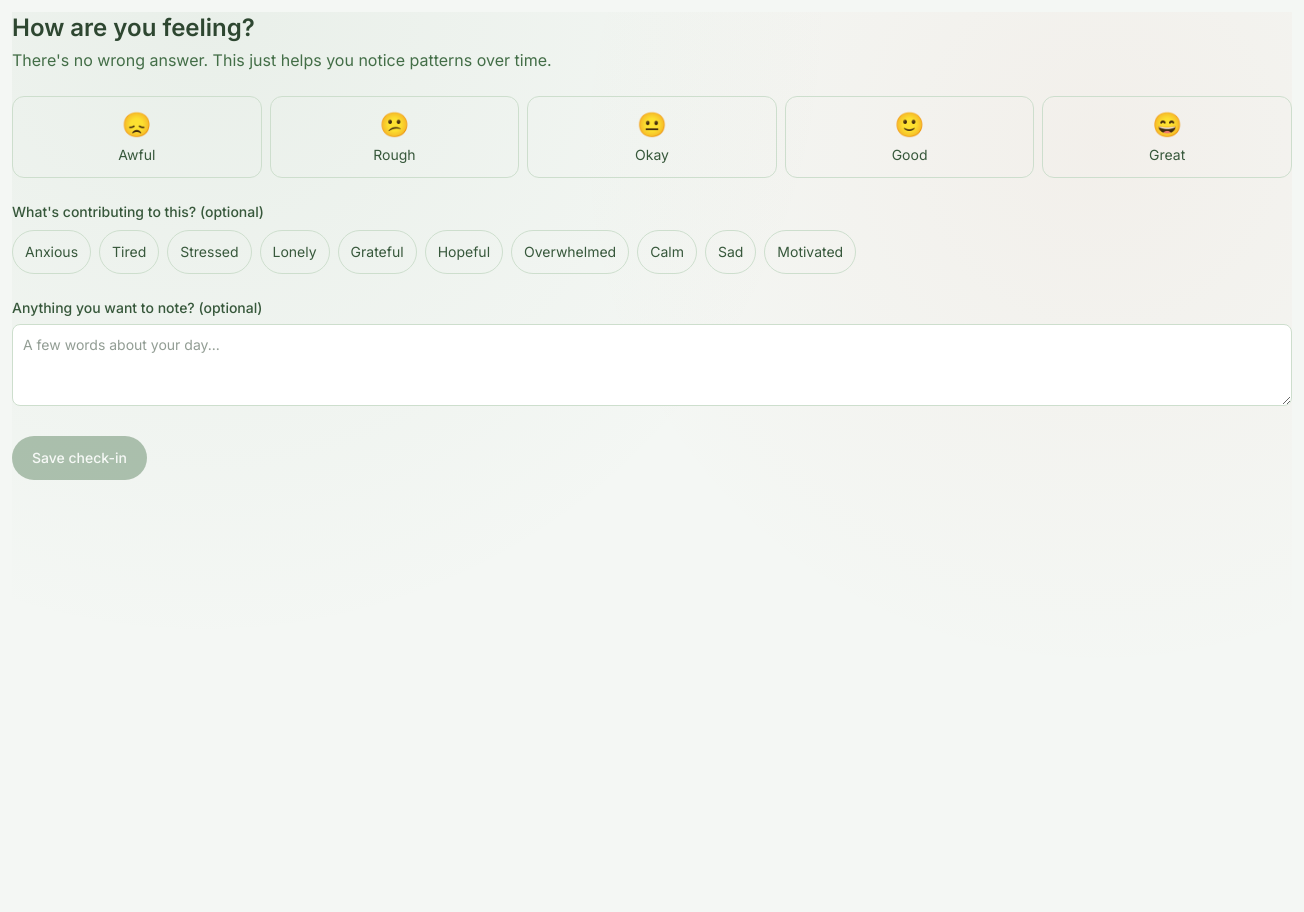
CheckIn page › follow-up after saving › suggests exercises that match the tags
Click the radio button labelled "😐 Okay".
click(652, 137)  # box [527,96,777,178]
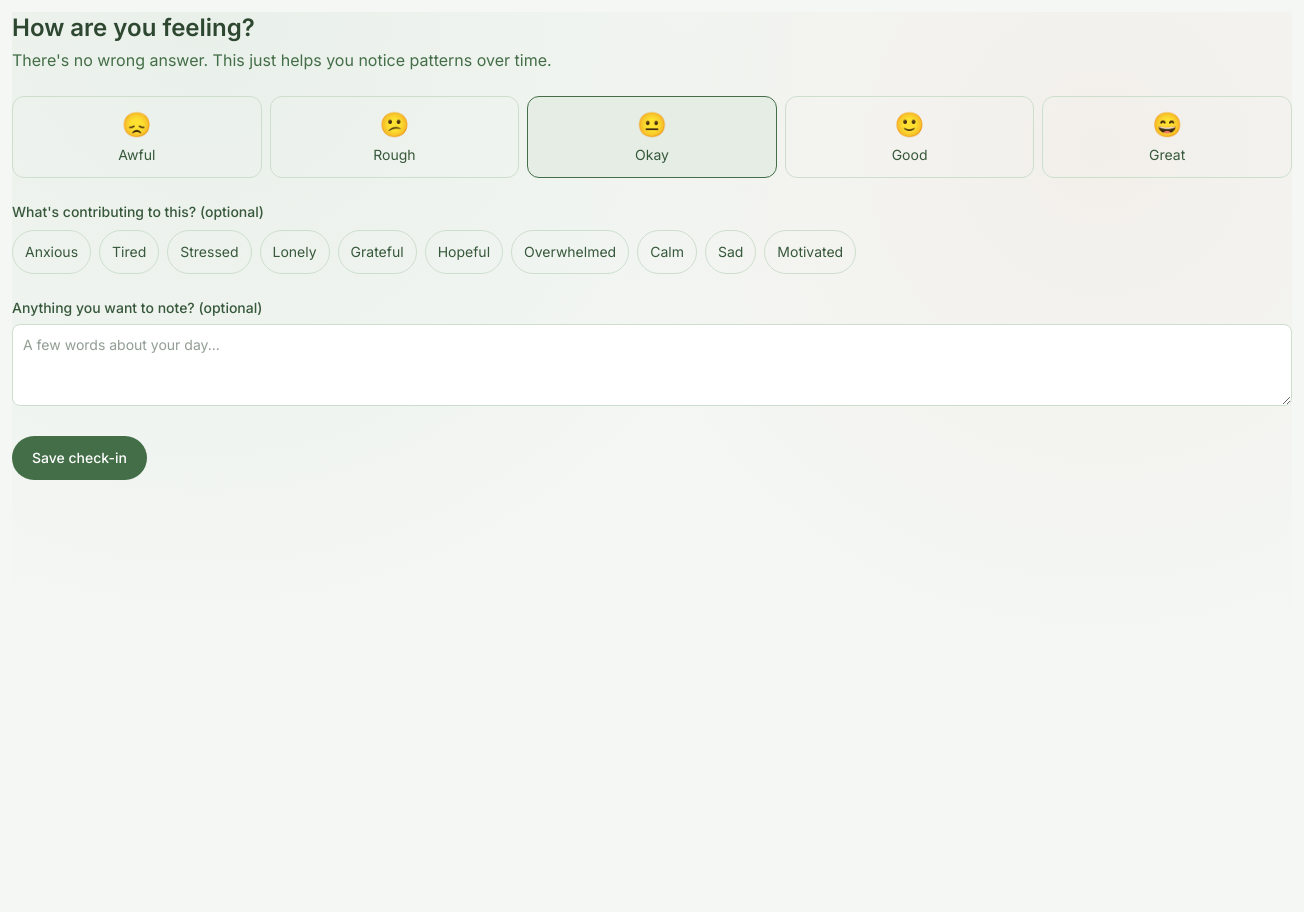
Click the button "anxious".
click(52, 252)  # box [12,230,91,274]
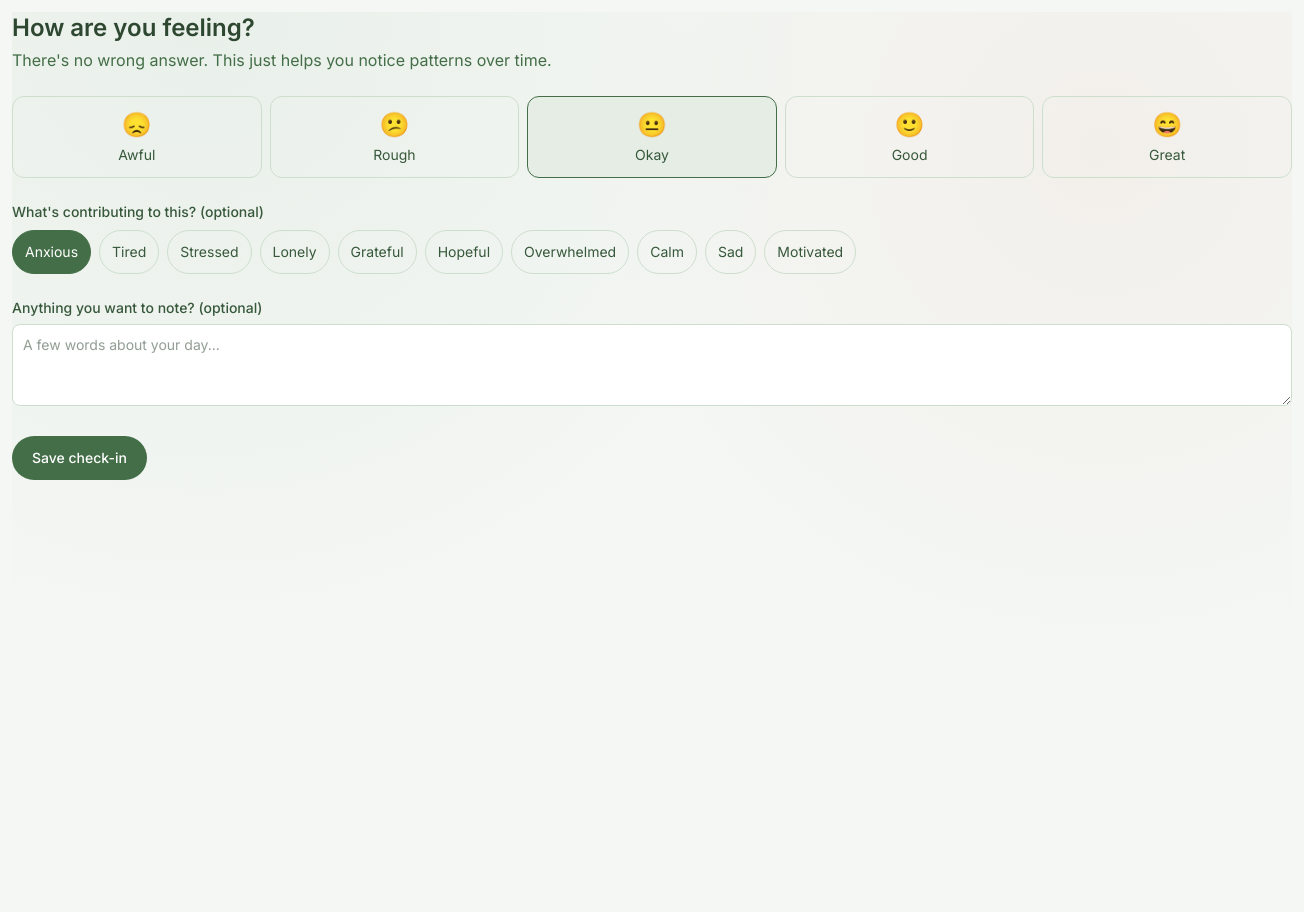
Click the button "Save check-in".
click(79, 458)  # box [12,436,147,480]
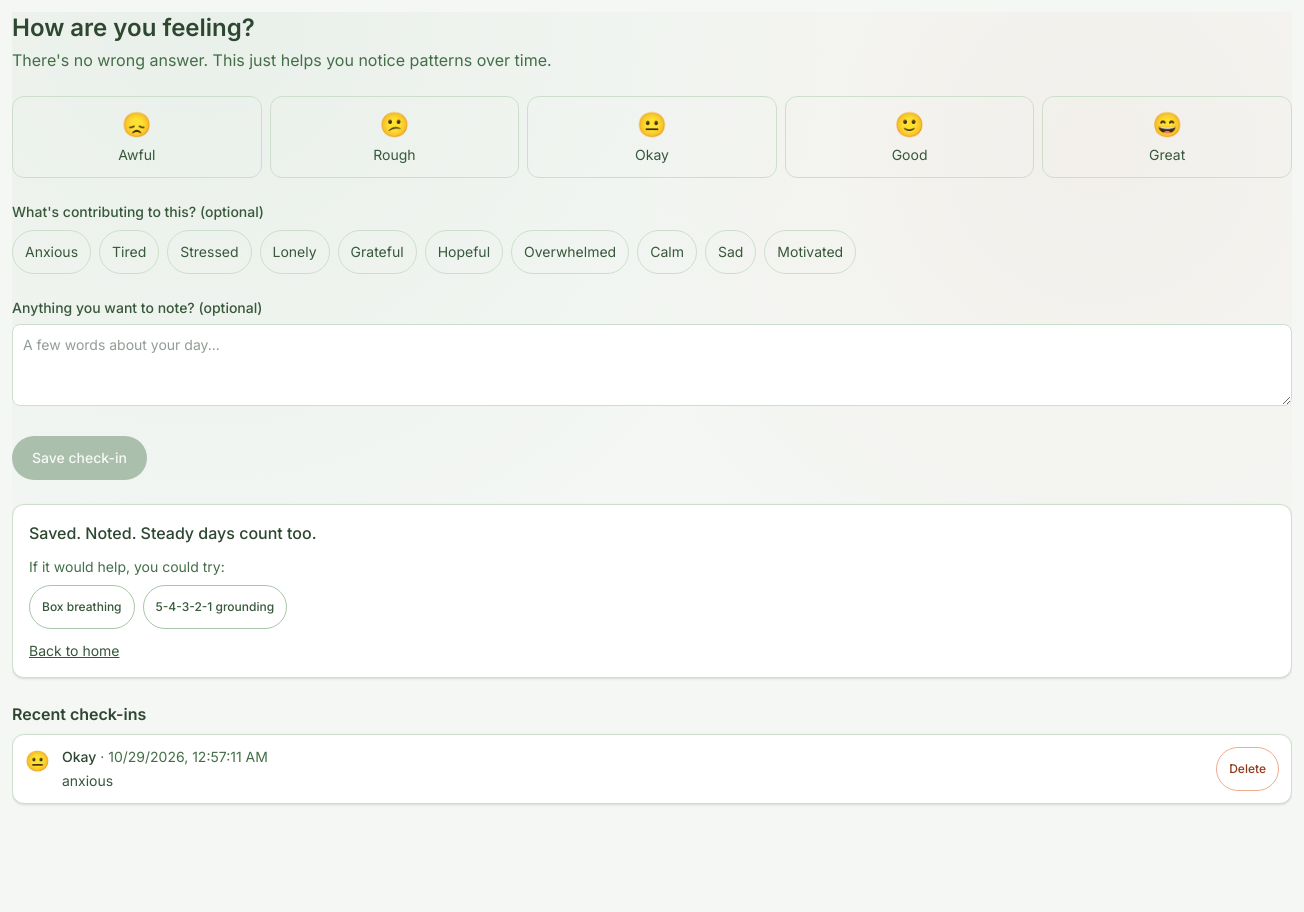
Now the link "5-4-3-2-1 grounding" is shown, box [143,585,287,629]
